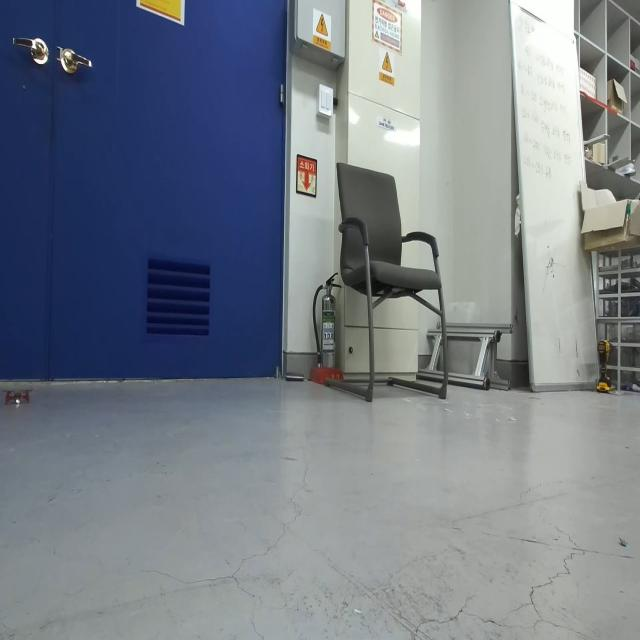crazyflie: (0, 383, 33, 406)
